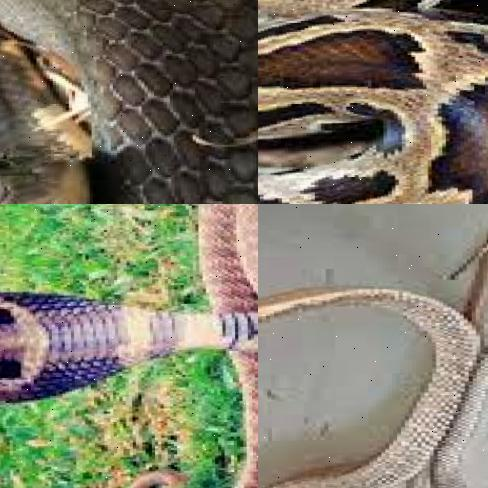5: (0, 204, 258, 488), (0, 0, 258, 204), (258, 283, 488, 488)
snake: (258, 0, 488, 204)
